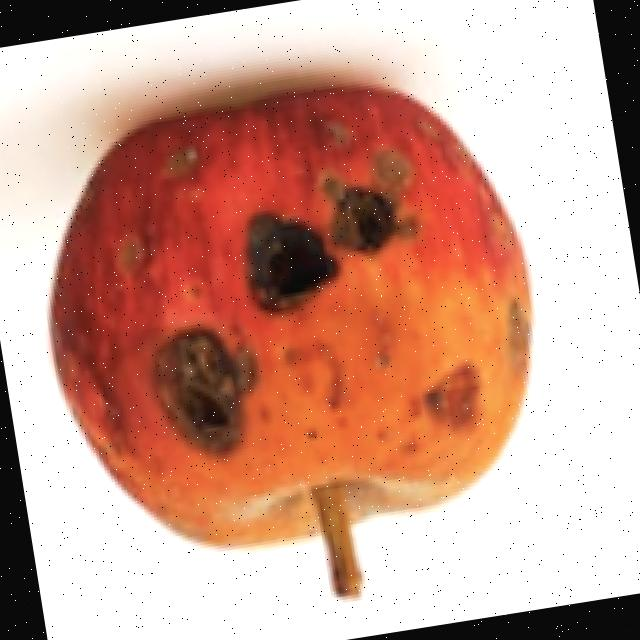Rotten: (14, 54, 568, 583)
